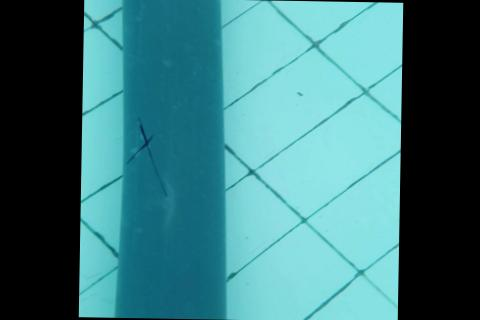keretakan: (124, 116, 169, 197)
